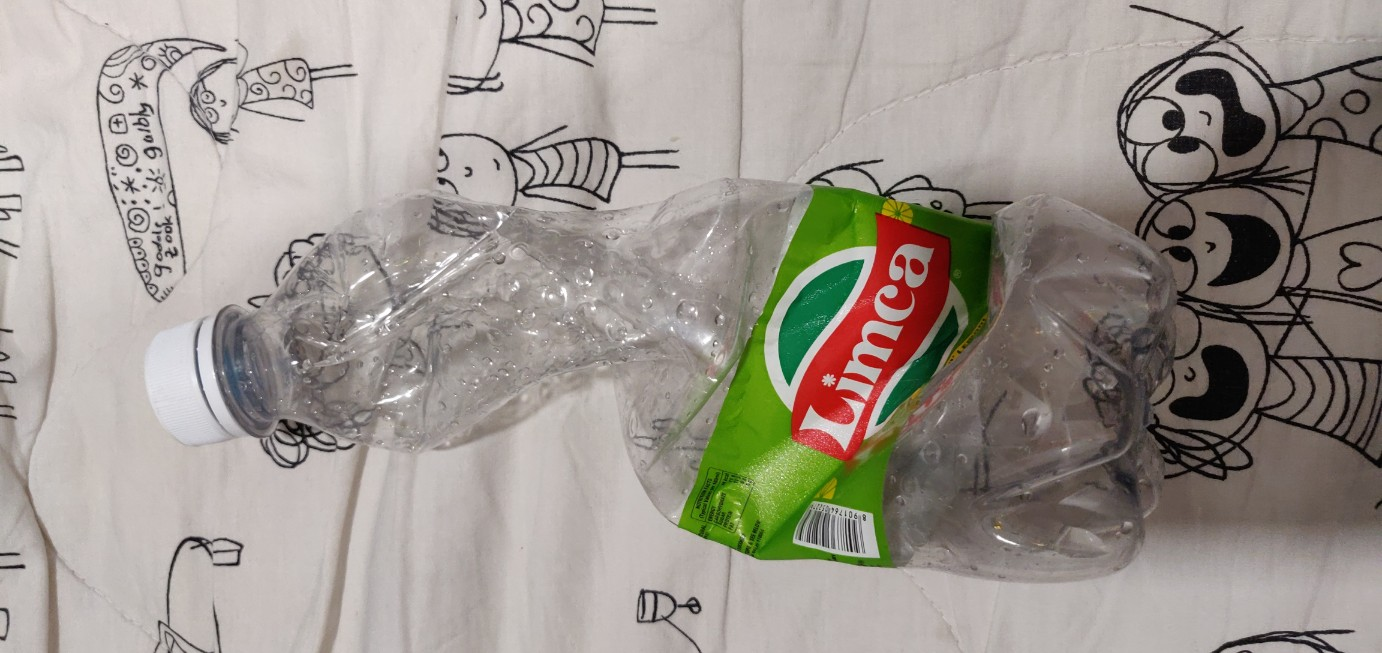Electronics: (112, 152, 1291, 605)
